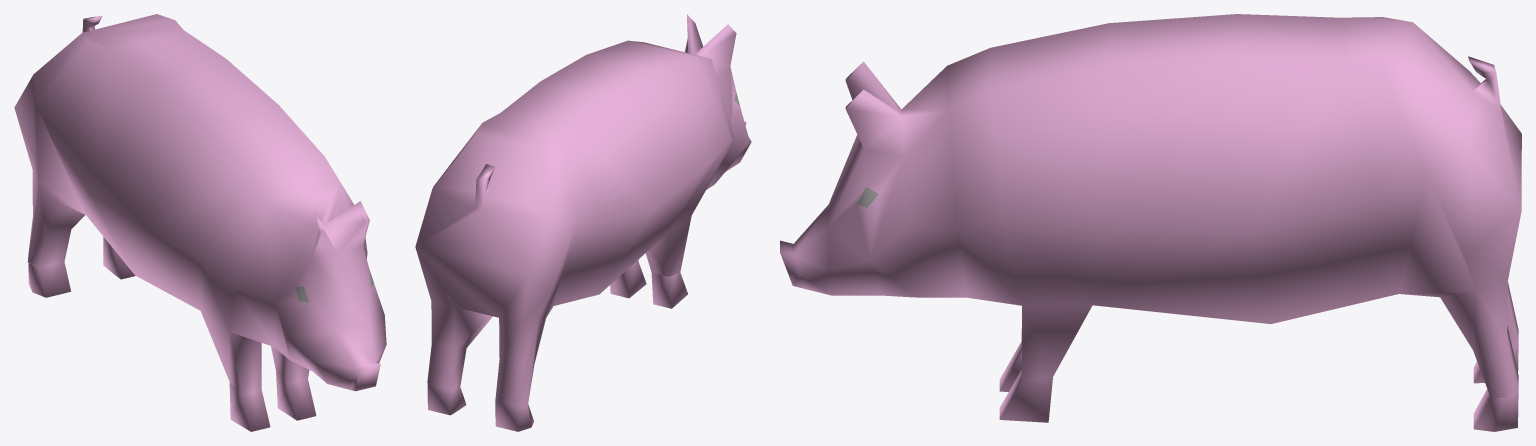
File: pig.glb
3 views of the same model, side by side, from view 1: azimuth 30°, elevation 25°; view 2: azimuth 150°, elevation 25°; view 3: azimuth 270°, elevation 25° (orthographic). The views are drawn at different scales.
Visible parts, largest first — view 1: pig; view 2: pig; view 3: pig.
Part boxes in pixels (x1,y1,x2,y2): pig: (14,14,386,431); pig: (415,14,751,431); pig: (780,14,1521,431).
Size of the model in its own units: 1.24 by 1.82 by 3.35.
Materials: 1 (1 with a texture image).
